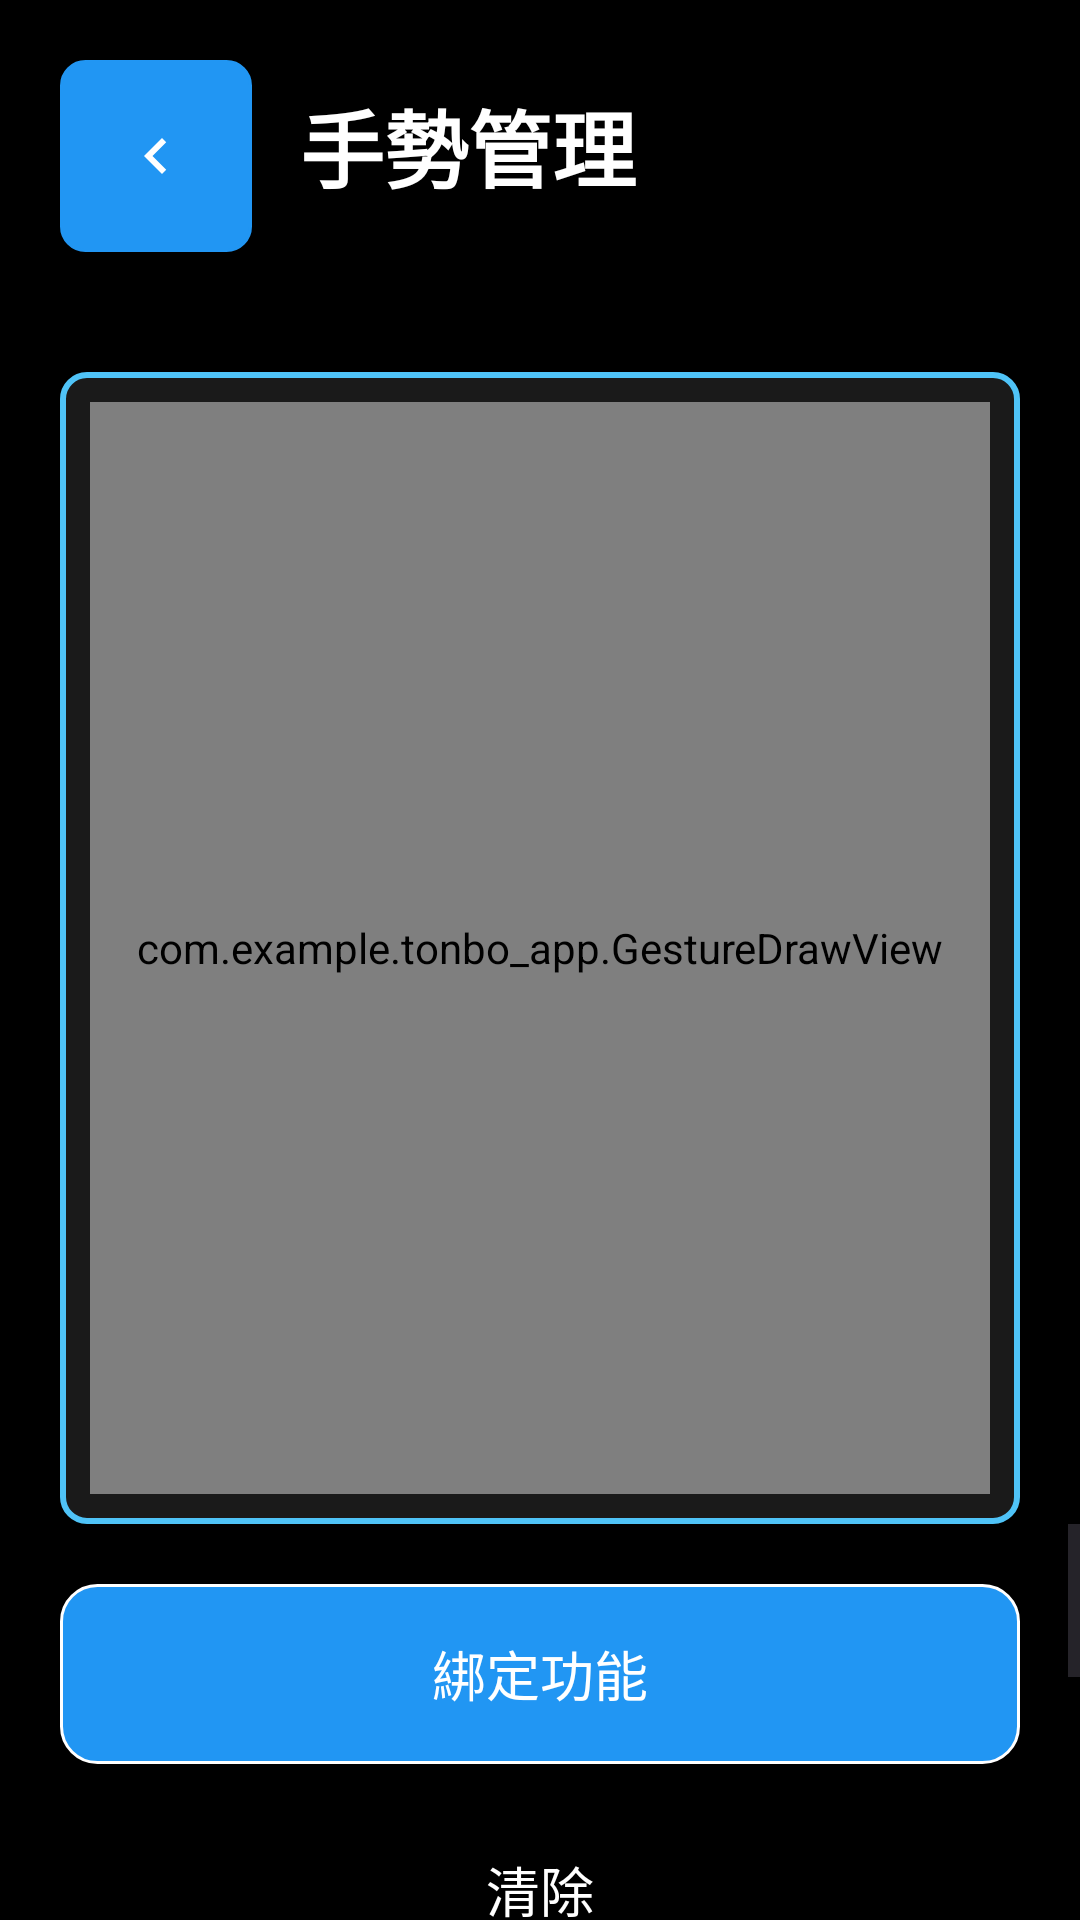

Icon click points for this 1080 × 1920 phone screenshot, format (x=x, y=y):
返回主頁按鈕: (x=156, y=156)
